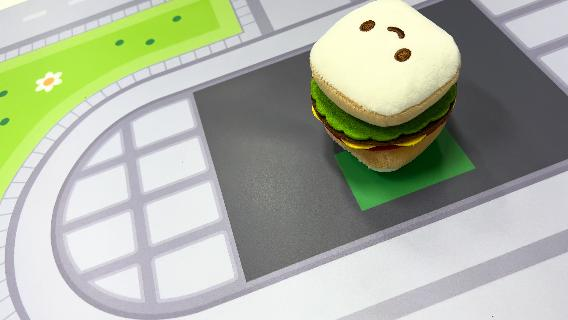sandwich: (306, 0, 464, 174)
